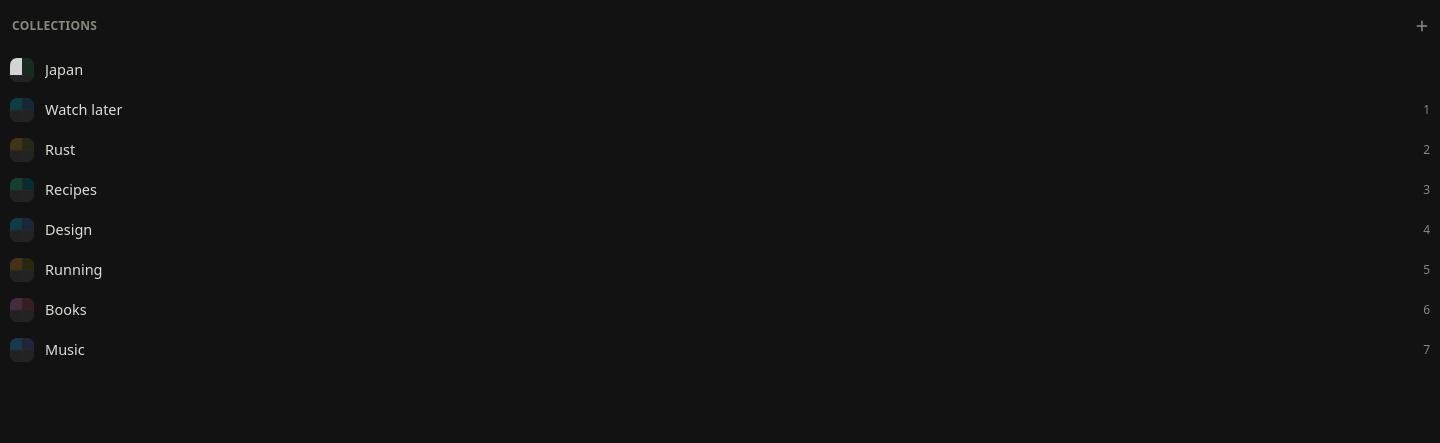
Test case: SidebarCollections › says which collection the user already has when the name is taken
The image size is (1440, 443).
Expected: the link "Japan" is shown, [10,58,83,82]
Click the button named "New collection" at (1422, 26), box [1408,12,1436,40]
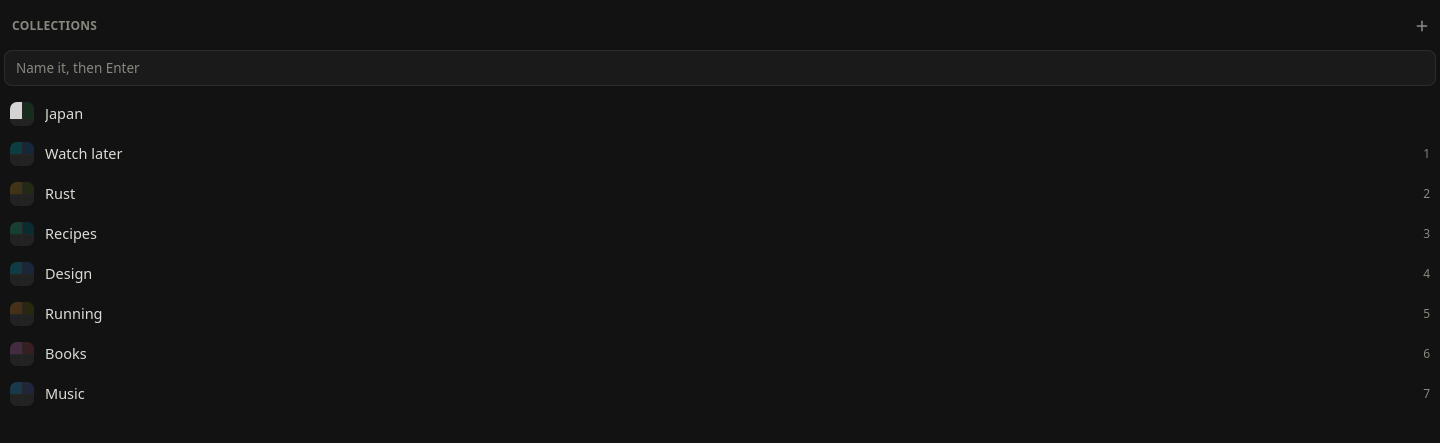
Type "JAPAN" into the field named "New collection name" at (720, 68), box [4,50,1436,86]
Then press Enter
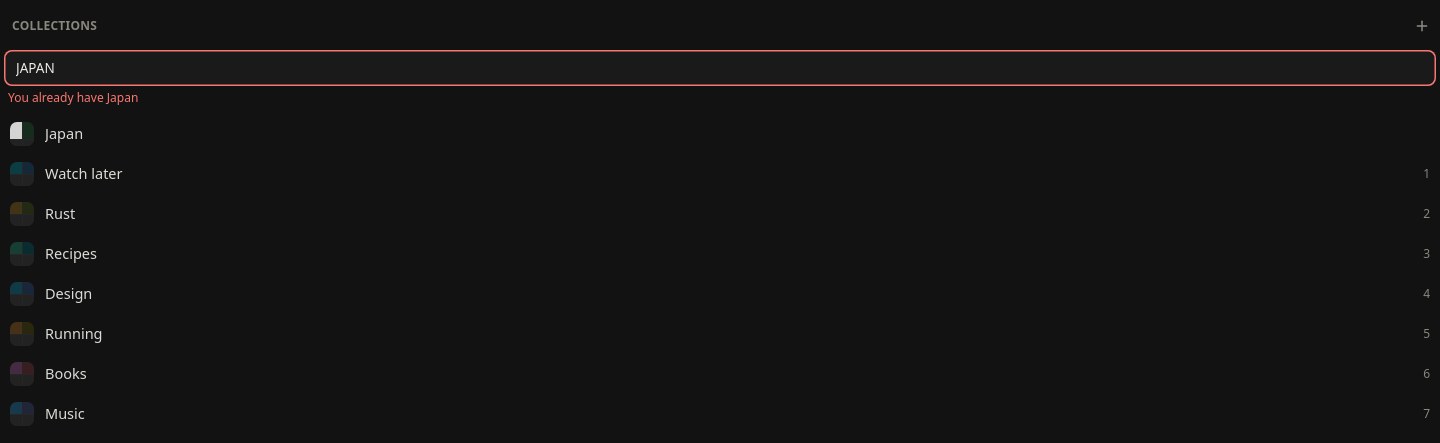
Result: the message reads "You already have Japan" at [8,89,138,106]
